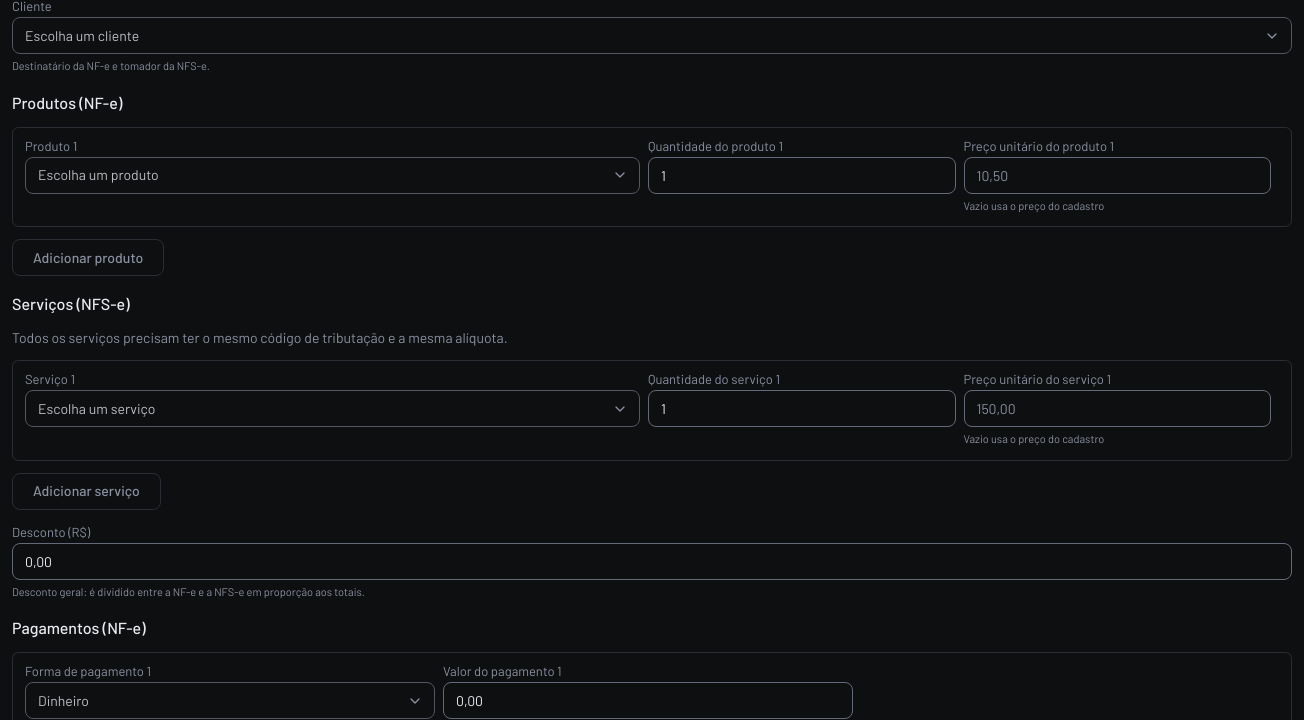
Test: VendaForm › mostra o erro da API no banner
The width and height of the screenshot is (1304, 720).
Select "Maria Teste" in the dropdown labelled "Cliente" at (652, 36), box [12,17,1292,54]
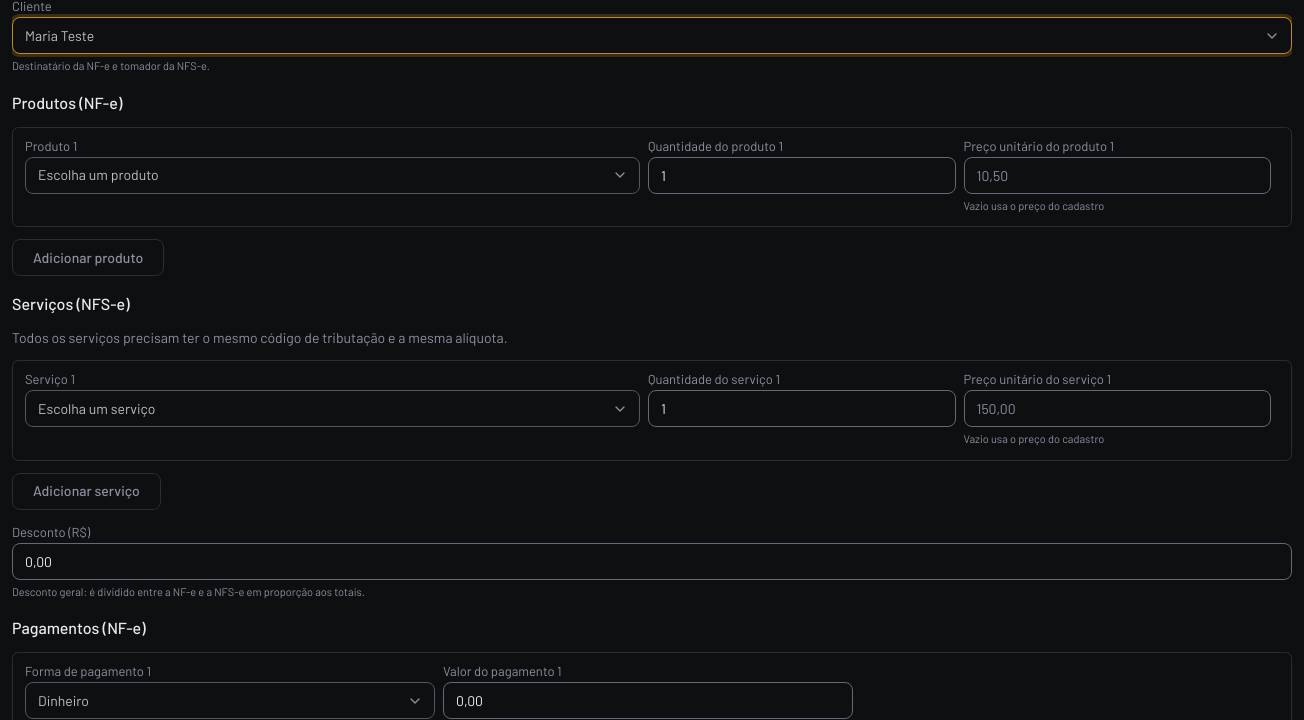
Select "Filtro de óleo" in the dropdown labelled "Produto 1" at (332, 175), box [25,156,640,194]
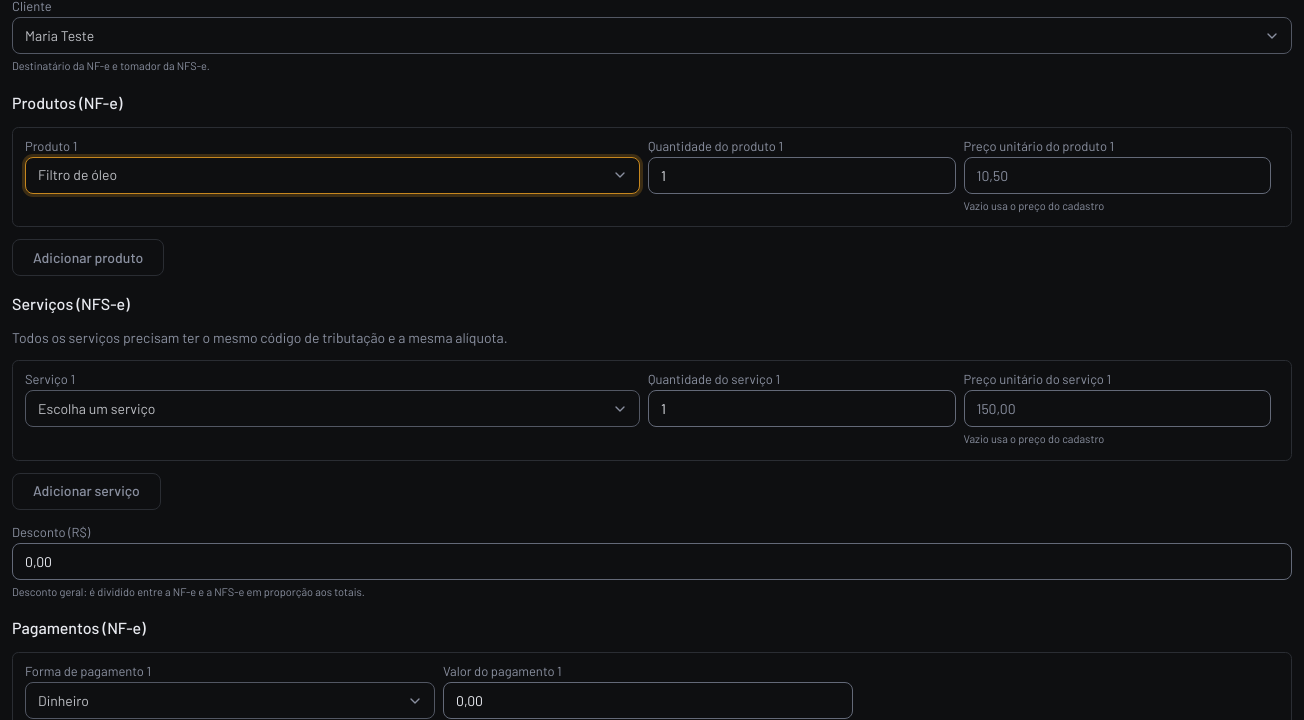
Select "Troca de óleo" in the dropdown labelled "Serviço 1" at (332, 408), box [25,390,640,427]
(page scrolled)
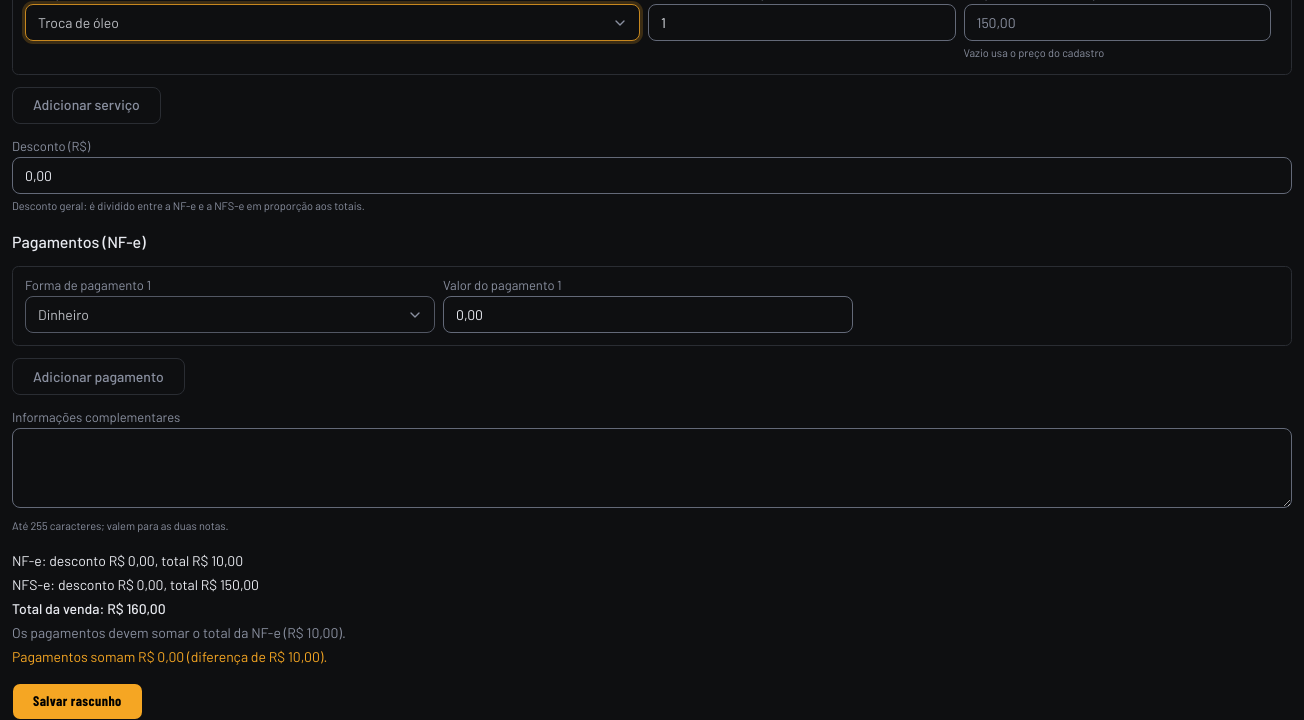
Click the button "Salvar rascunho" at (77, 701), box [12,682,143,719]
(page scrolled)
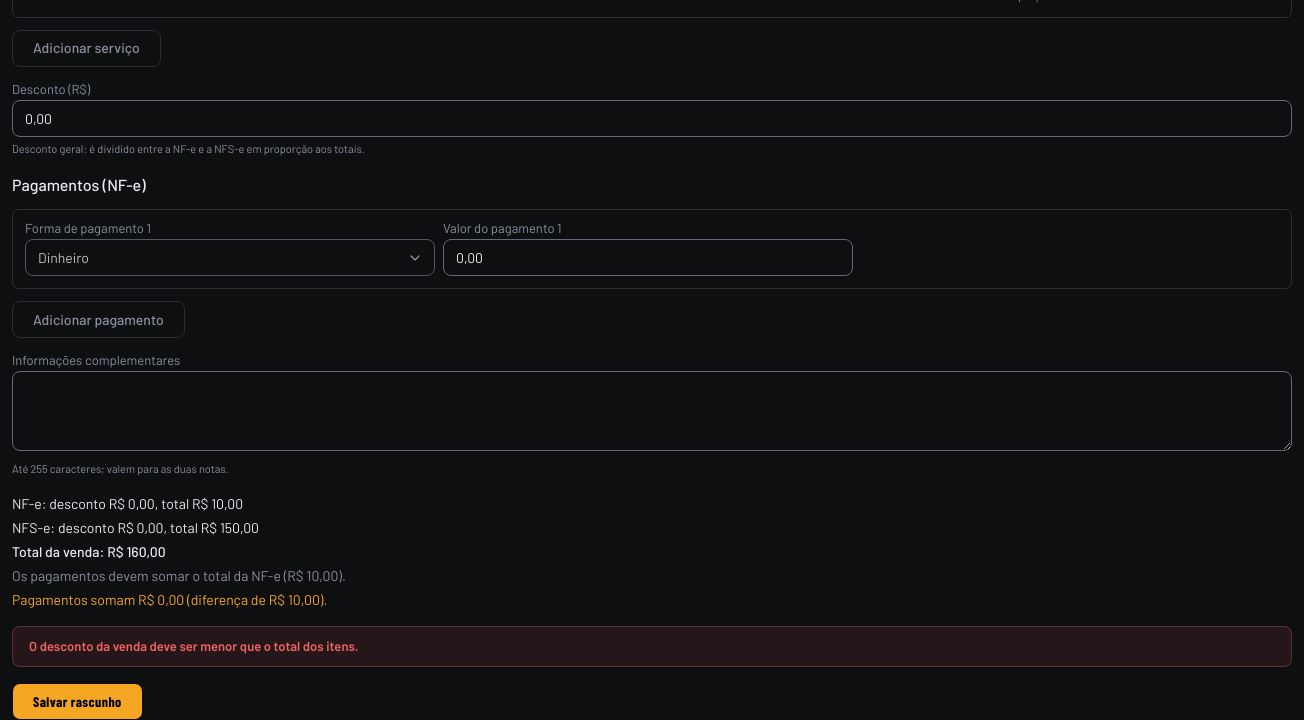
Now the message shows "O desconto da venda deve ser menor", box [29,638,358,654]
